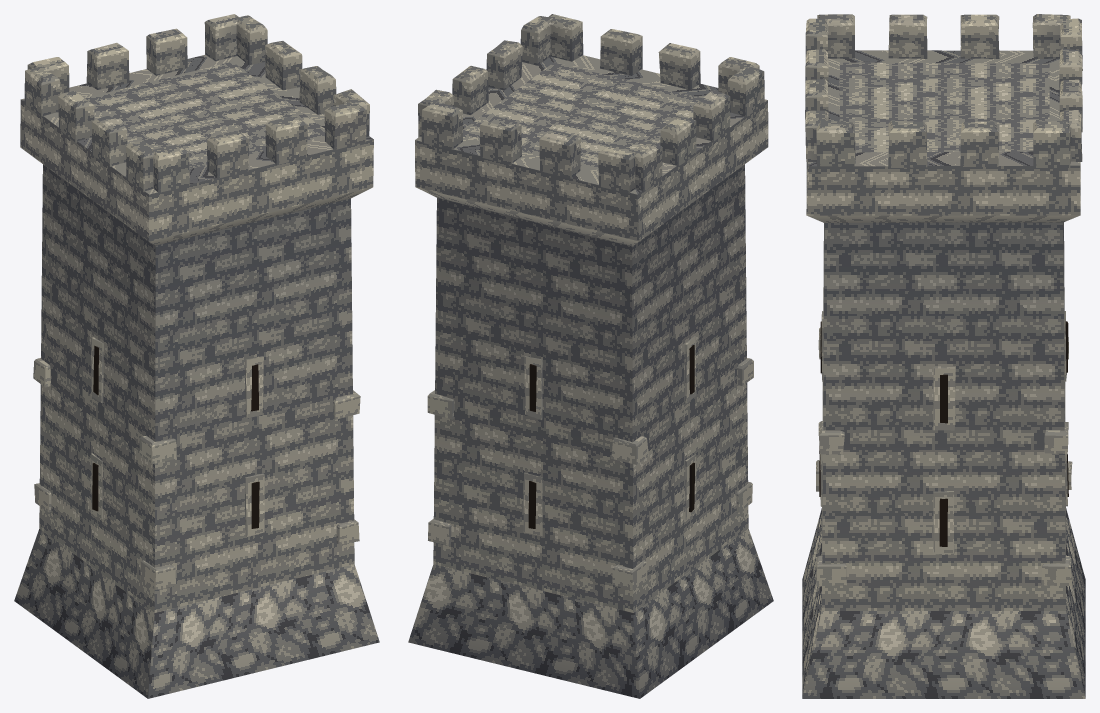
The model's file is cst.tower_square.glb.
3 renders of one model, left to right at view 1: azimuth 30°, elevation 25°; view 2: azimuth 150°, elevation 25°; view 3: azimuth 270°, elevation 25°, orthographic. The views are drawn at different scales.
Visible parts, largest first — view 1: kit_shaft, kit_top, kit_detail; view 2: kit_shaft, kit_top, kit_detail; view 3: kit_shaft, kit_top, kit_detail.
Boxes of the visible parts, <box> form: kit_shaft: <box>14,164,379,698</box>; kit_top: <box>20,14,373,245</box>; kit_detail: <box>33,337,360,589</box>; kit_shaft: <box>408,164,773,698</box>; kit_top: <box>415,14,768,246</box>; kit_detail: <box>427,336,753,590</box>; kit_shaft: <box>802,222,1085,698</box>; kit_top: <box>805,14,1082,222</box>; kit_detail: <box>816,311,1072,586</box>.
Bounding box in the file's own units: 5.8 × 12.85 × 5.8.
5 materials, 5 textured.
